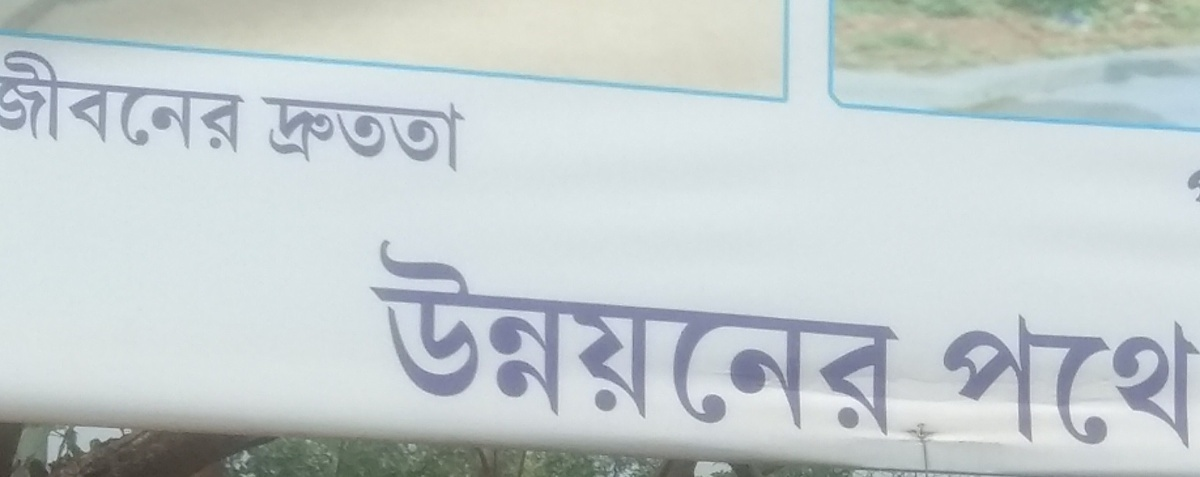text: (385, 235, 400, 449), (401, 235, 416, 449), (417, 235, 432, 449), (433, 235, 448, 449), (449, 235, 464, 449), (465, 235, 480, 449), (481, 235, 496, 449), (497, 235, 512, 449), (513, 235, 528, 449), (529, 235, 544, 449), (545, 235, 560, 449), (561, 235, 576, 449), (577, 235, 592, 449), (593, 235, 608, 449), (609, 235, 624, 449), (625, 235, 640, 449), (641, 235, 656, 449), (657, 235, 672, 449), (673, 235, 688, 449), (689, 235, 704, 449), (705, 235, 720, 449), (721, 235, 736, 449), (737, 235, 752, 449), (753, 235, 768, 449), (769, 235, 784, 449), (785, 235, 800, 449), (801, 235, 816, 449), (817, 235, 832, 449), (833, 235, 848, 449), (849, 235, 864, 449), (865, 235, 880, 449), (881, 235, 896, 449), (371, 235, 384, 449), (945, 308, 960, 453), (961, 308, 976, 453), (977, 308, 992, 453), (993, 308, 1008, 453), (1009, 308, 1024, 453), (1025, 308, 1040, 453), (1041, 308, 1056, 453), (1057, 308, 1072, 453), (1073, 308, 1088, 453), (1089, 308, 1104, 453), (1105, 308, 1120, 453), (1121, 308, 1136, 453), (1137, 308, 1152, 453), (1153, 308, 1168, 453), (1169, 308, 1184, 453), (1185, 308, 1199, 453), (897, 235, 906, 449), (1, 46, 16, 157), (17, 46, 32, 157), (33, 46, 48, 157), (49, 46, 64, 157), (65, 46, 80, 157), (81, 46, 96, 157), (97, 46, 112, 157), (113, 46, 128, 157), (129, 46, 144, 157), (145, 46, 160, 157), (161, 46, 176, 157), (177, 46, 192, 157), (193, 46, 208, 157), (209, 46, 224, 157), (225, 46, 240, 157), (273, 91, 288, 179), (289, 91, 304, 179), (305, 91, 320, 179), (321, 91, 336, 179), (337, 91, 352, 179), (353, 91, 368, 179), (369, 91, 384, 179), (385, 91, 400, 179), (401, 91, 416, 179), (417, 91, 432, 179), (433, 91, 448, 179), (449, 91, 464, 179), (241, 46, 249, 157), (262, 91, 272, 179), (1185, 159, 1200, 216), (465, 91, 470, 179), (1181, 159, 1184, 216), (943, 308, 944, 453)
